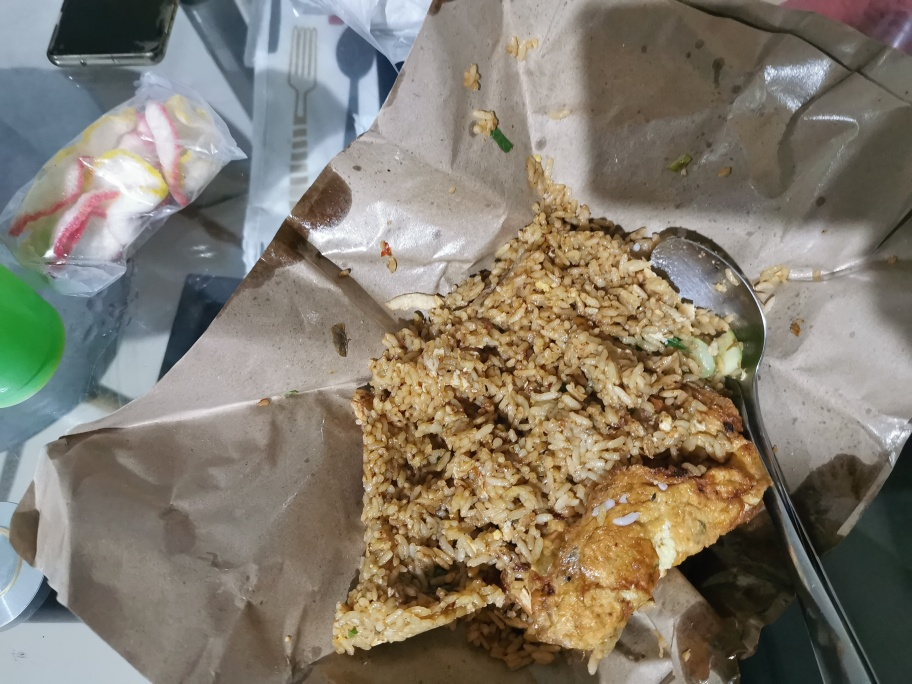nasi goreng: (355, 193, 764, 664)
